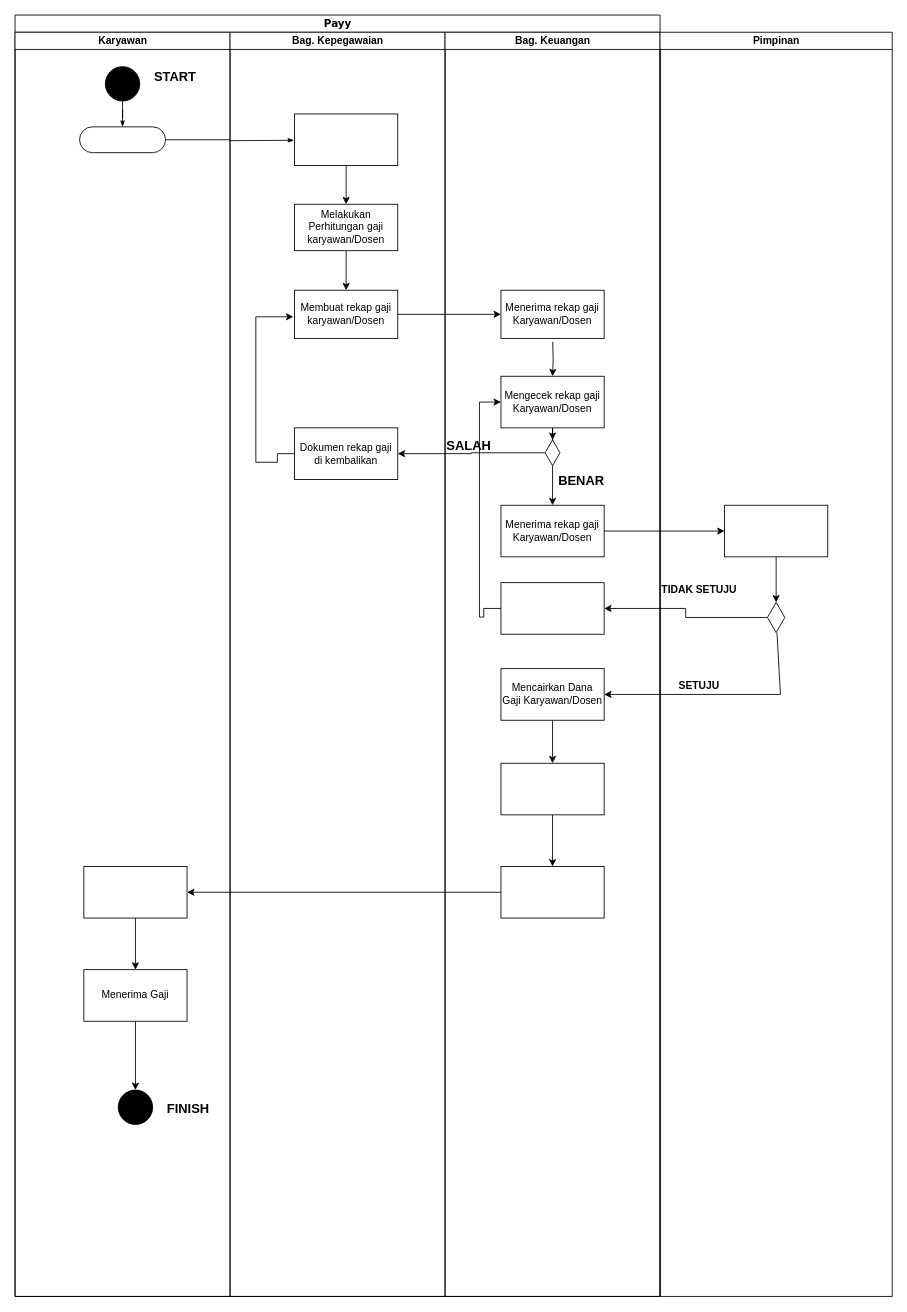
Some shapes in this 907 by 1312 pixel diagram are drawn without their labels. The centre of each missing label's shape, as x and y in pixels:
Melakukan Absen: (122,139)
Memberikan Slip gaji ke masing masing karyawan: (552,892)
Membuat Slip Gaji Karyawan/Dosen: (552,788)
Meminta persetujuan Pembayaran gaji: (776,530)
Menerima Rekapitulasi Absen Karyawan/Dosen: (346,139)
Menerima Slip Gaji: (135,892)
Rekap Gaji di kembalikan: (552,608)
